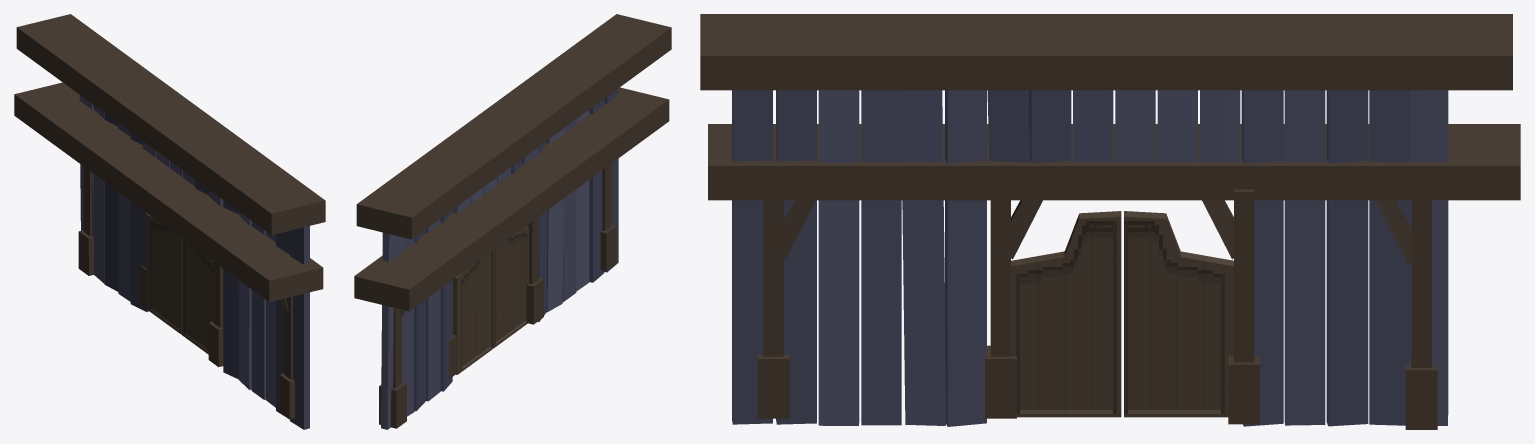
File: porton.fbx
The picture shows the model from 3 angles, left to right: view 1: azimuth 30°, elevation 25°; view 2: azimuth 150°, elevation 25°; view 3: azimuth 270°, elevation 25°; orthographic projection. The views are drawn at different scales.
Visible parts, largest first — view 1: Cube_364, Cube_364.001, Cube.009, Cube.016, Cube.017, Cube_364.003, Cube_364.006, Cube_364.007, Cube_364.013, Cube_364.004, Cube_364.012, Cube_364.010; view 2: Cube_364, Cube_364.001, Cube.009, Cube.016, Cube.017, Cube_364.013, Cube_364.007, Cube_364.004, Cube_364.012, Cube_364.006, Cube_364.003, Cube_364.010; view 3: Cube.009, Cube_364, Cube_364.001, Cube.017, Cube.016, Cube_364.009, Cube_364.012, Cube_364.003, Cube_364.006, Cube_364.010, Cube_364.004, Cube_364.013 (+5 smaller).
Part boxes in pixels (x1,y1,x2,y2): Cube_364: [16, 14, 325, 234]; Cube_364.001: [14, 82, 323, 302]; Cube.009: [79, 95, 309, 429]; Cube.016: [146, 214, 181, 334]; Cube.017: [182, 238, 213, 354]; Cube_364.003: [284, 296, 292, 379]; Cube_364.006: [213, 261, 223, 327]; Cube_364.007: [208, 321, 223, 367]; Cube_364.013: [78, 230, 93, 275]; Cube_364.004: [279, 373, 294, 419]; Cube_364.012: [83, 167, 92, 236]; Cube_364.010: [139, 265, 146, 307]; Cube_364: [356, 14, 671, 239]; Cube_364.001: [354, 87, 669, 311]; Cube.009: [381, 88, 618, 429]; Cube.016: [453, 251, 492, 374]; Cube.017: [492, 225, 528, 348]; Cube_364.013: [379, 382, 406, 428]; Cube_364.007: [527, 278, 543, 324]; Cube_364.004: [600, 225, 616, 271]; Cube_364.012: [393, 308, 401, 388]; Cube_364.006: [527, 217, 538, 284]; Cube_364.003: [602, 164, 611, 230]; Cube_364.010: [448, 335, 456, 378]; Cube.009: [732, 90, 1448, 426]; Cube_364: [700, 14, 1512, 90]; Cube_364.001: [708, 124, 1520, 200]; Cube.017: [1011, 211, 1121, 417]; Cube.016: [1124, 211, 1233, 417]; Cube_364.009: [1234, 189, 1254, 362]; Cube_364.012: [1411, 200, 1431, 367]; Cube_364.003: [763, 200, 783, 356]; Cube_364.006: [990, 200, 1010, 356]; Cube_364.010: [1228, 356, 1260, 424]; Cube_364.004: [757, 354, 789, 418]; Cube_364.013: [1405, 366, 1437, 429].
Size of the model in its own units: 297 by 1090 by 2172.
